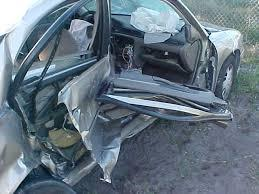doorouter-dent: (21, 19, 99, 152)
fender-dent: (208, 27, 242, 60)
